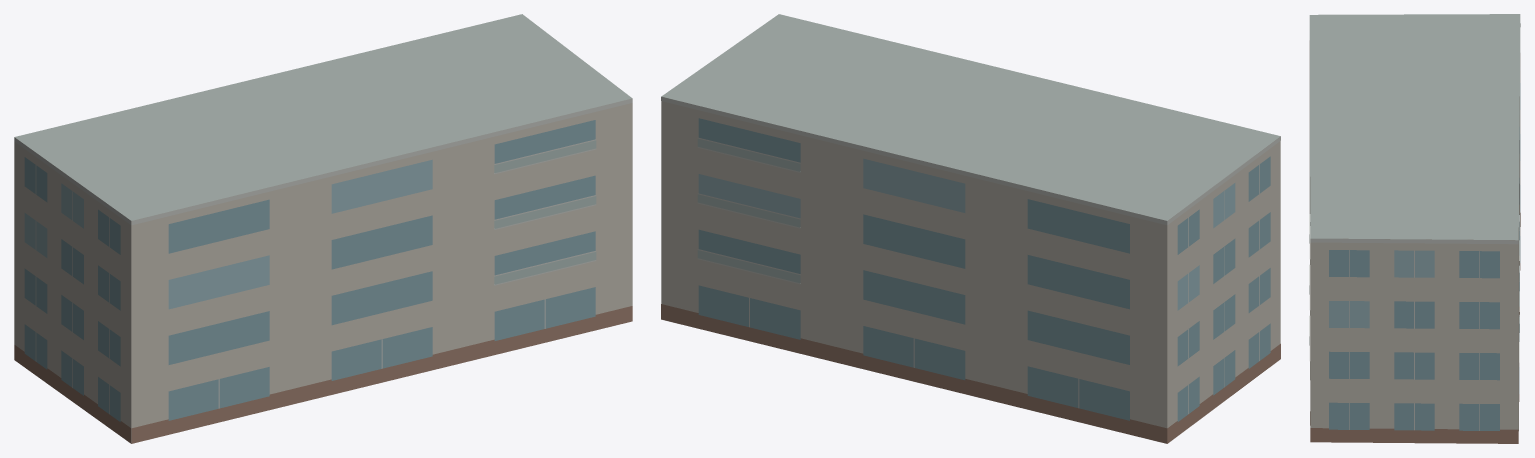
File: survey-upis-32771290.glb
3 renders of one model, left to right at view 1: azimuth 30°, elevation 25°; view 2: azimuth 150°, elevation 25°; view 3: azimuth 270°, elevation 25°, orthographic. The views are drawn at different scales.
Parts seen in each view (by area): view 1: survey-upis-32771290.tmp; view 2: survey-upis-32771290.tmp; view 3: survey-upis-32771290.tmp.
Part boxes in pixels (box(x1,y1,x2,y2)): survey-upis-32771290.tmp: box(14, 14, 632, 443); survey-upis-32771290.tmp: box(661, 14, 1280, 443); survey-upis-32771290.tmp: box(1309, 14, 1520, 443).
Size of the model in its own units: 29.05 by 12.2 by 11.46.
